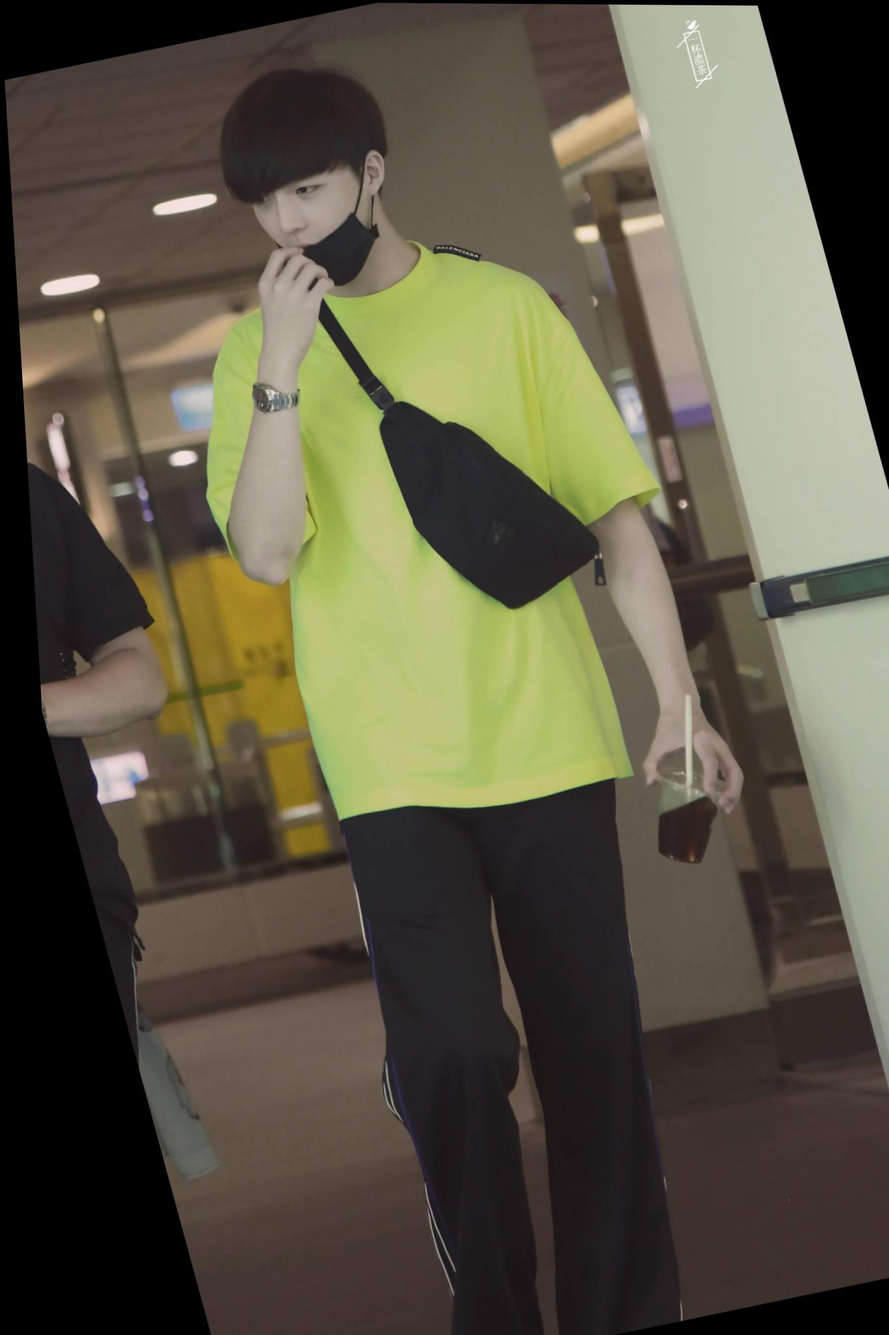WRONG: (236, 144, 385, 302)
